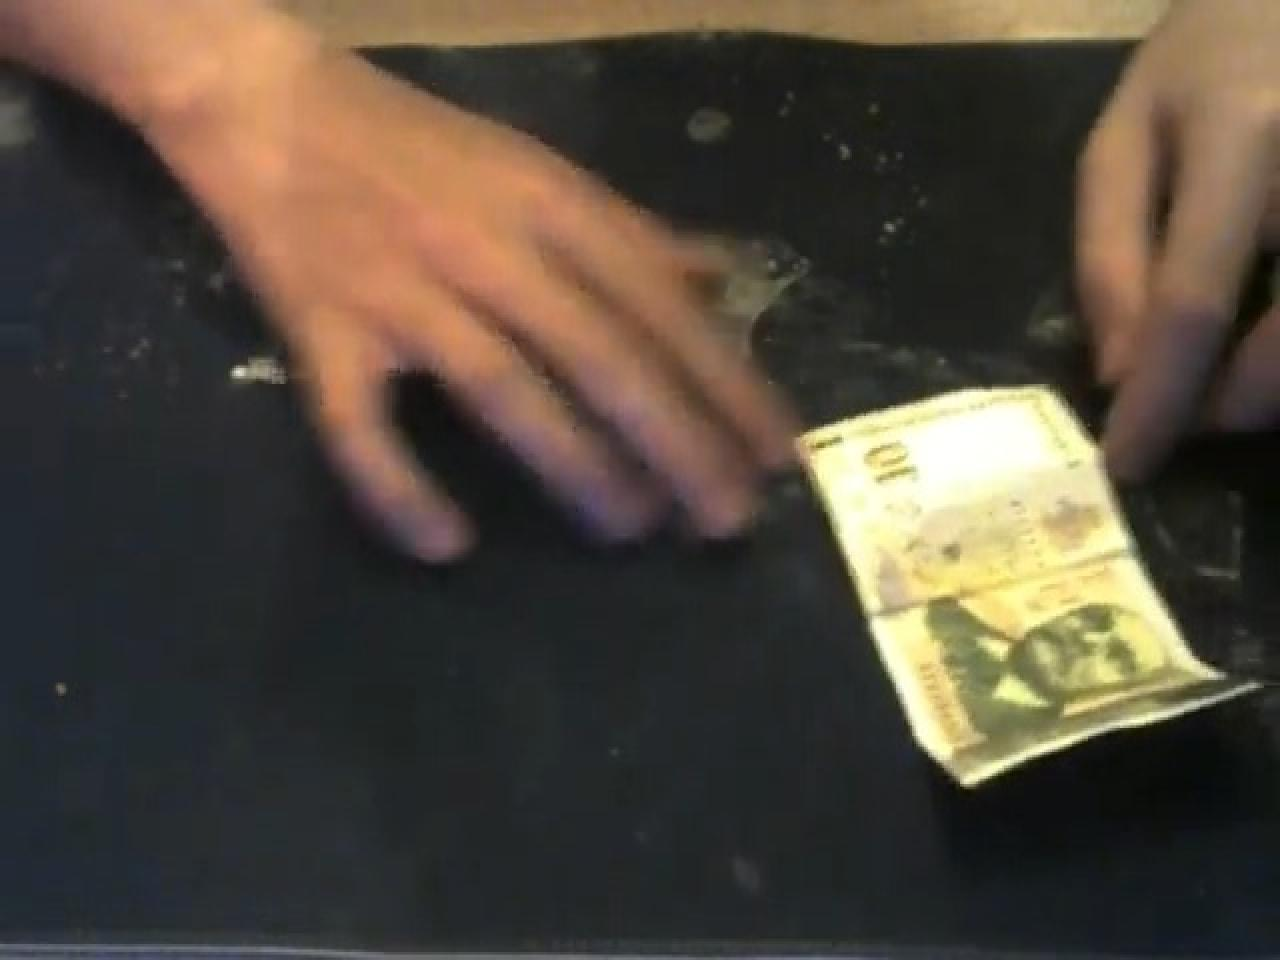10leva: (794, 384, 1260, 792)
